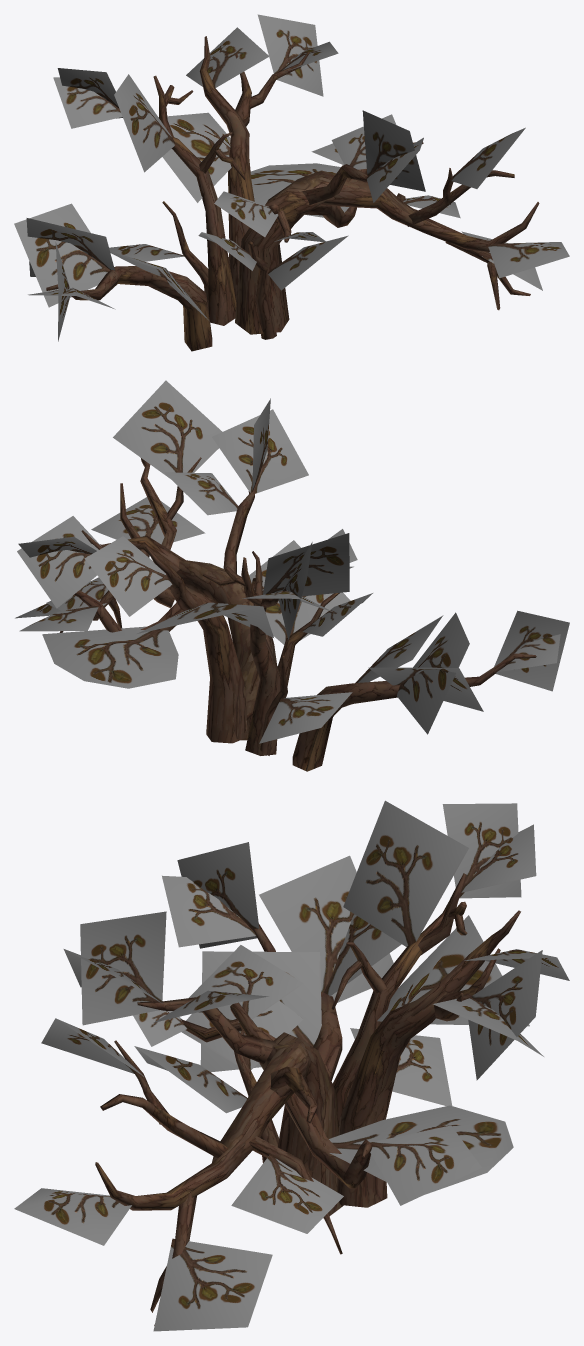
The model's file is 2_Plant_KuShu_02_01.FBX.
The picture shows the model from 3 angles, top to bottom: view 1: azimuth 30°, elevation 25°; view 2: azimuth 150°, elevation 25°; view 3: azimuth 270°, elevation 25°; orthographic projection. The views are drawn at different scales.
Visible parts, largest first — view 1: 2_Plant_KuShu_02_01, 2_Plant_KuShu_02_05, 2_Plant_KuShu_02_04, 2_Plant_KuShu_02_03, 2_Plant_KuShu_02_02; view 2: 2_Plant_KuShu_02_01, 2_Plant_KuShu_02_05, 2_Plant_KuShu_02_03, 2_Plant_KuShu_02_04, 2_Plant_KuShu_02_02; view 3: 2_Plant_KuShu_02_01, 2_Plant_KuShu_02_04, 2_Plant_KuShu_02_03, 2_Plant_KuShu_02_05, 2_Plant_KuShu_02_02.
Part boxes in pixels (x1,y1,x2,y2): 2_Plant_KuShu_02_01: (214, 110, 569, 334); 2_Plant_KuShu_02_05: (158, 14, 338, 302); 2_Plant_KuShu_02_04: (53, 68, 245, 325); 2_Plant_KuShu_02_03: (14, 203, 212, 351); 2_Plant_KuShu_02_02: (198, 232, 348, 339); 2_Plant_KuShu_02_01: (15, 380, 357, 740); 2_Plant_KuShu_02_05: (17, 516, 273, 743); 2_Plant_KuShu_02_03: (292, 610, 569, 771); 2_Plant_KuShu_02_04: (202, 533, 352, 755); 2_Plant_KuShu_02_02: (249, 540, 372, 686); 2_Plant_KuShu_02_01: (14, 911, 513, 1331); 2_Plant_KuShu_02_04: (331, 800, 536, 1133); 2_Plant_KuShu_02_03: (162, 842, 401, 1080); 2_Plant_KuShu_02_05: (337, 910, 569, 1207); 2_Plant_KuShu_02_02: (134, 1000, 303, 1162).
Size of the model in its own units: 1149 by 551 by 796.
